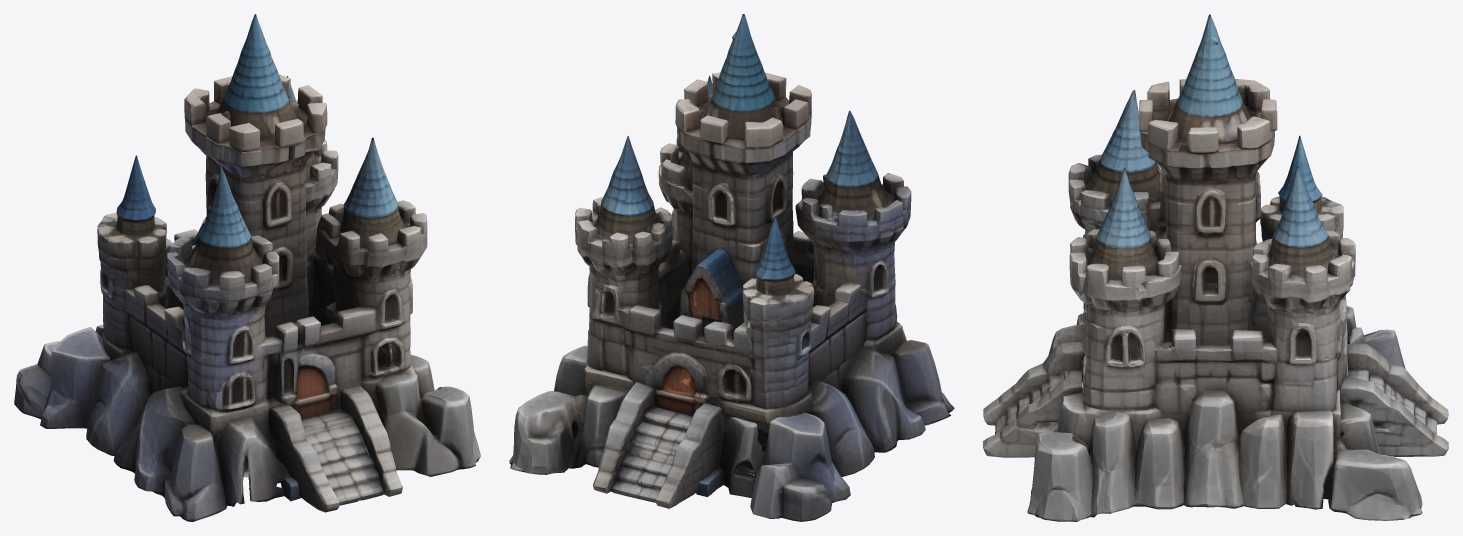
The picture shows the model from 3 angles, left to right: view 1: azimuth 30°, elevation 25°; view 2: azimuth 150°, elevation 25°; view 3: azimuth 270°, elevation 25°; orthographic projection. The views are drawn at different scales.
Visible parts, largest first — view 1: world; view 2: world; view 3: world.
Boxes of the visible parts, bbox=[...] form: world: bbox=[14, 14, 480, 521]; world: bbox=[509, 14, 954, 521]; world: bbox=[983, 14, 1448, 521].
Bounding box in the file's own units: 0.647 × 0.8422 × 0.8183.
1 material, 1 textured.
